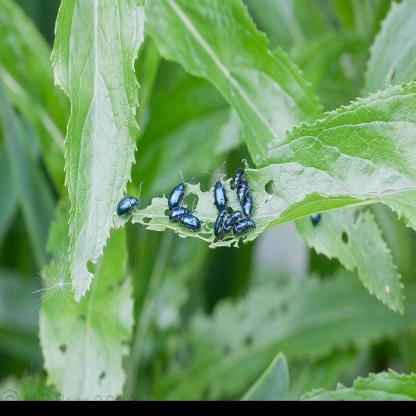beetle: (168, 174, 186, 208), (115, 193, 139, 216), (211, 177, 228, 209), (212, 208, 228, 239), (178, 211, 202, 230), (233, 219, 258, 235), (168, 207, 194, 221), (240, 194, 254, 219), (224, 211, 243, 228), (231, 167, 246, 187), (235, 182, 248, 204)
